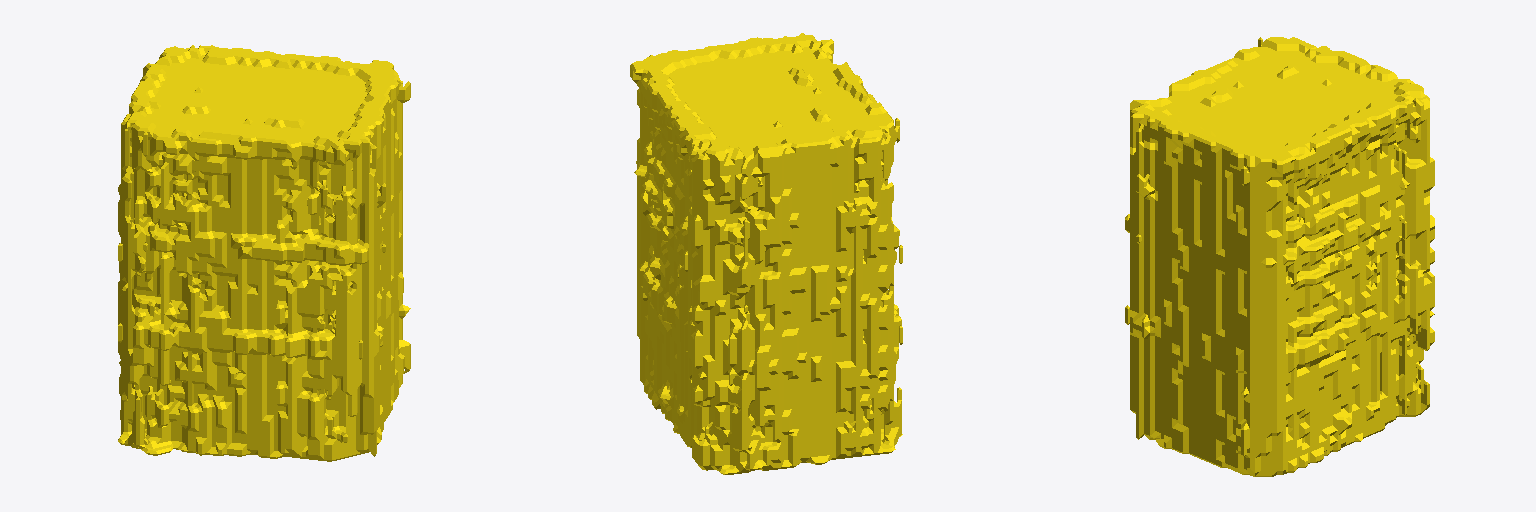
Rendered from gen8_colored.obj.
The picture shows the model from 3 angles: view 1: azimuth 30°, elevation 25°; view 2: azimuth 150°, elevation 25°; view 3: azimuth 270°, elevation 25°; orthographic projection.
Visible parts, largest first — view 1: gen8.obj; view 2: gen8.obj; view 3: gen8.obj.
Boxes of the visible parts, box(x1,y1,x2,y2) form: gen8.obj: box(118, 45, 410, 461); gen8.obj: box(630, 33, 902, 474); gen8.obj: box(1125, 37, 1434, 476).
Bounding box in the file's own units: 57 × 64 × 56.